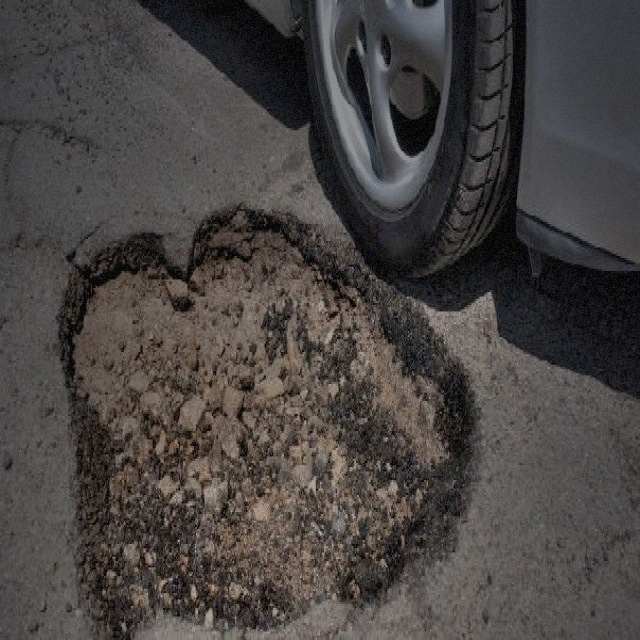pothole: (55, 200, 478, 636)
